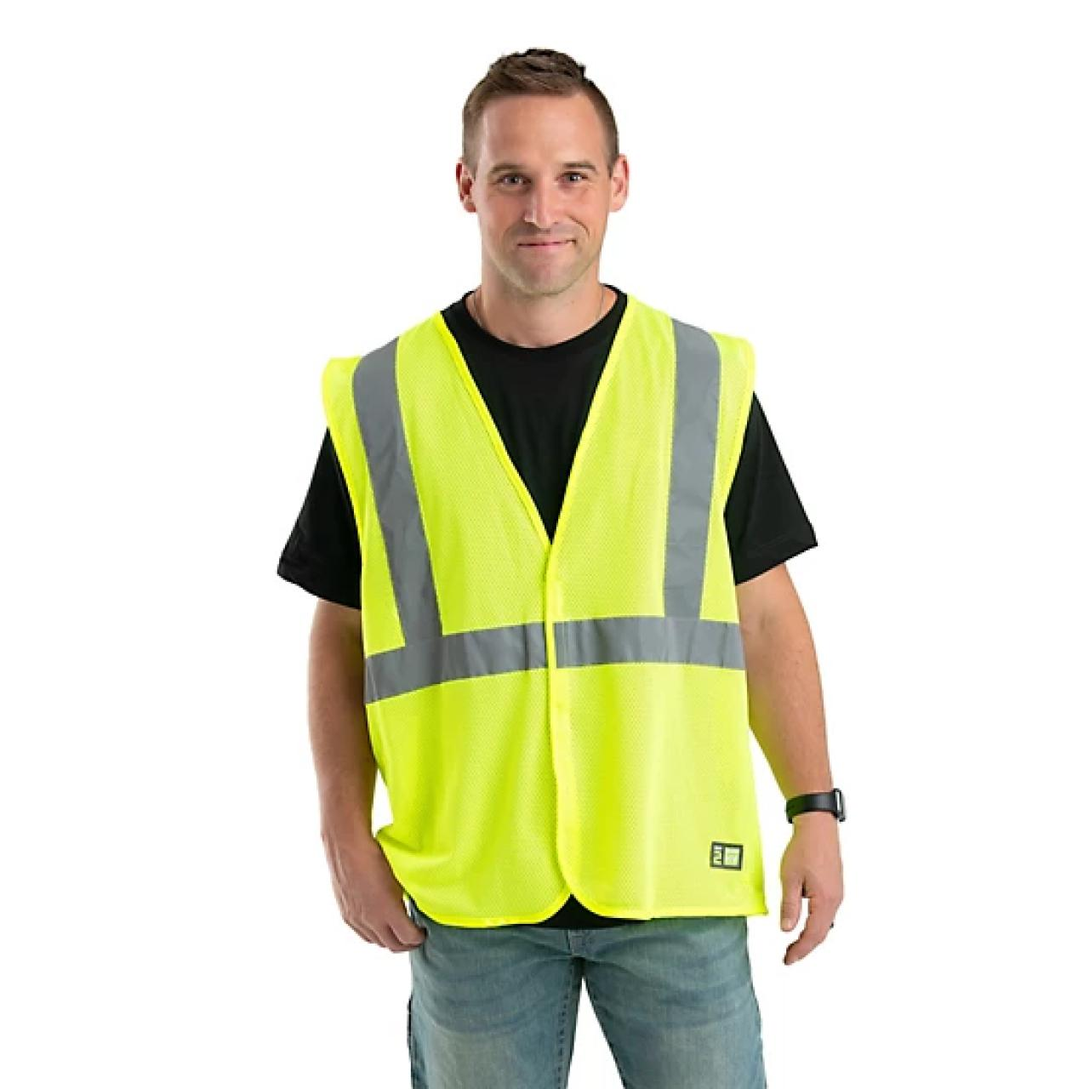Person: (220, 18, 877, 1089)
Safety_Vest: (314, 287, 777, 932)
